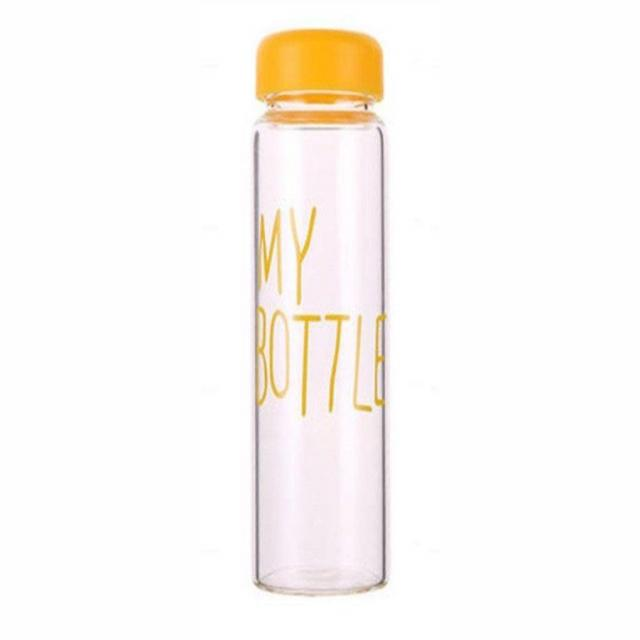plastic_bottle: (234, 25, 420, 615)
